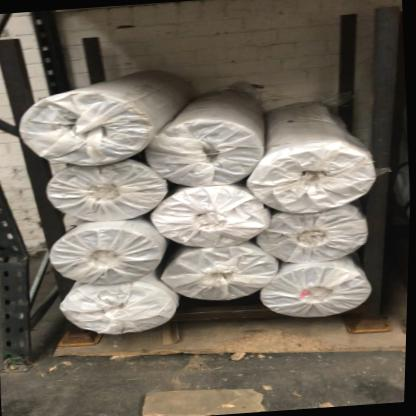vertical_damage: (1, 168, 51, 367)
